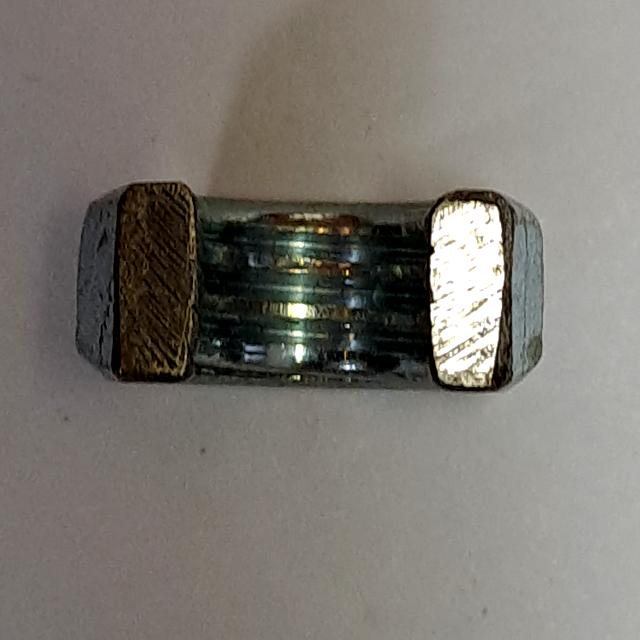Side-Fracture: (55, 171, 573, 410)
